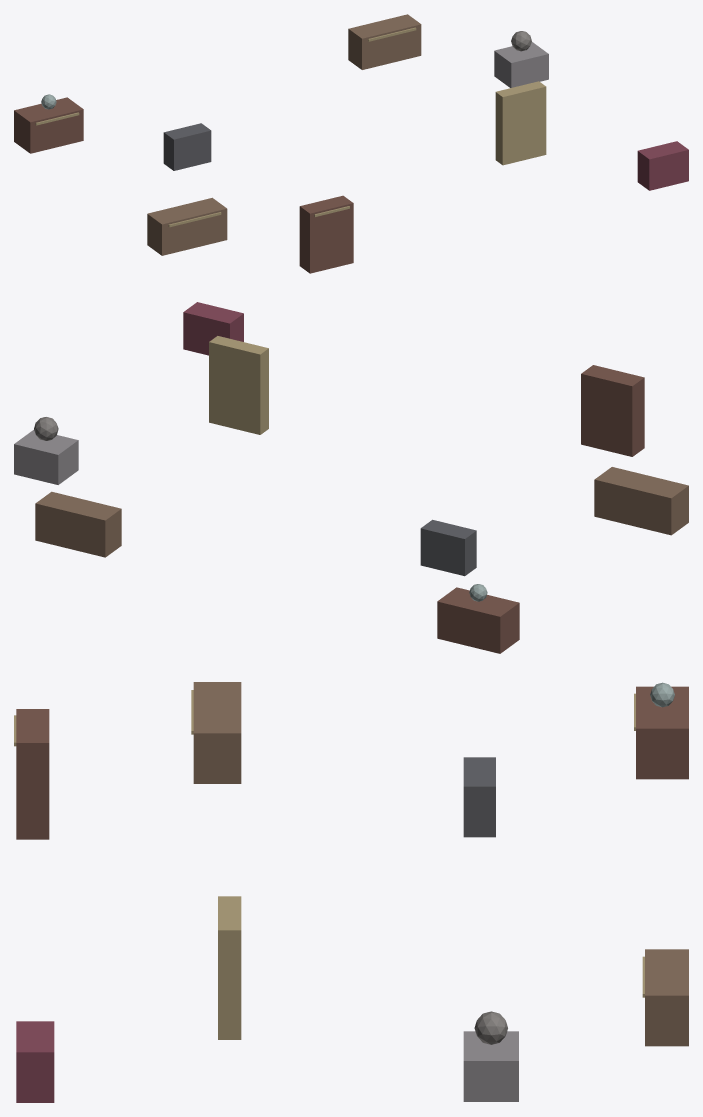
Rendered from furnishings_floor_02.glb.
The picture shows the model from 3 angles, top to bottom: view 1: azimuth 30°, elevation 25°; view 2: azimuth 150°, elevation 25°; view 3: azimuth 270°, elevation 25°; orthographic projection. The views are drawn at different scales.
Parts seen in each view (by area): view 1: fe-f2-room4_standing_mirror, fe-f2-room3_parts_cabinet, fe-f2-room3_craft_workbench, fe-f2-room2_botanical_workbench, fe-f2-room1_seer_table, fe-f2-room4_draped_table, fe-f2-room2_planter, fe-f2-room1_reliquary; view 2: fe-f2-room4_standing_mirror, fe-f2-room3_parts_cabinet, fe-f2-room3_craft_workbench, fe-f2-room2_botanical_workbench, fe-f2-room1_seer_table, fe-f2-room2_planter, fe-f2-room1_reliquary, fe-f2-room4_draped_table; view 3: fe-f2-room3_craft_workbench, fe-f2-room1_seer_table, fe-f2-room3_parts_cabinet, fe-f2-room2_botanical_workbench, fe-f2-room2_planter, fe-f2-room4_standing_mirror, fe-f2-room4_draped_table, fe-f2-room1_reliquary, fe-f2-room2_withered_plant.
Boxes of the visible parts, box(x1,y1,x2,y2) form: fe-f2-room4_standing_mirror: box(495, 81, 546, 165); fe-f2-room3_parts_cabinet: box(299, 195, 353, 273); fe-f2-room3_craft_workbench: box(147, 197, 227, 255); fe-f2-room2_botanical_workbench: box(348, 14, 421, 69); fe-f2-room1_seer_table: box(14, 97, 83, 153); fe-f2-room4_draped_table: box(637, 141, 688, 190); fe-f2-room2_planter: box(494, 42, 548, 87); fe-f2-room1_reliquary: box(163, 123, 211, 170); fe-f2-room4_standing_mirror: box(209, 336, 268, 434); fe-f2-room3_parts_cabinet: box(581, 365, 644, 456); fe-f2-room3_craft_workbench: box(594, 467, 688, 535); fe-f2-room2_botanical_workbench: box(35, 491, 121, 557); fe-f2-room1_seer_table: box(437, 587, 519, 653); fe-f2-room2_planter: box(14, 430, 78, 484); fe-f2-room1_reliquary: box(420, 519, 476, 576); fe-f2-room4_draped_table: box(183, 302, 243, 355); fe-f2-room3_craft_workbench: box(193, 682, 241, 783); fe-f2-room1_seer_table: box(636, 686, 688, 779); fe-f2-room3_parts_cabinet: box(16, 709, 49, 839); fe-f2-room2_botanical_workbench: box(645, 949, 688, 1046); fe-f2-room2_planter: box(463, 1031, 518, 1101); fe-f2-room4_standing_mirror: box(218, 896, 241, 1039); fe-f2-room4_draped_table: box(16, 1021, 54, 1102); fe-f2-room1_reliquary: box(463, 757, 495, 837); fe-f2-room2_withered_plant: box(474, 1011, 507, 1044).
Size of the model in its own units: 11.93 by 1.65 by 9.19.
